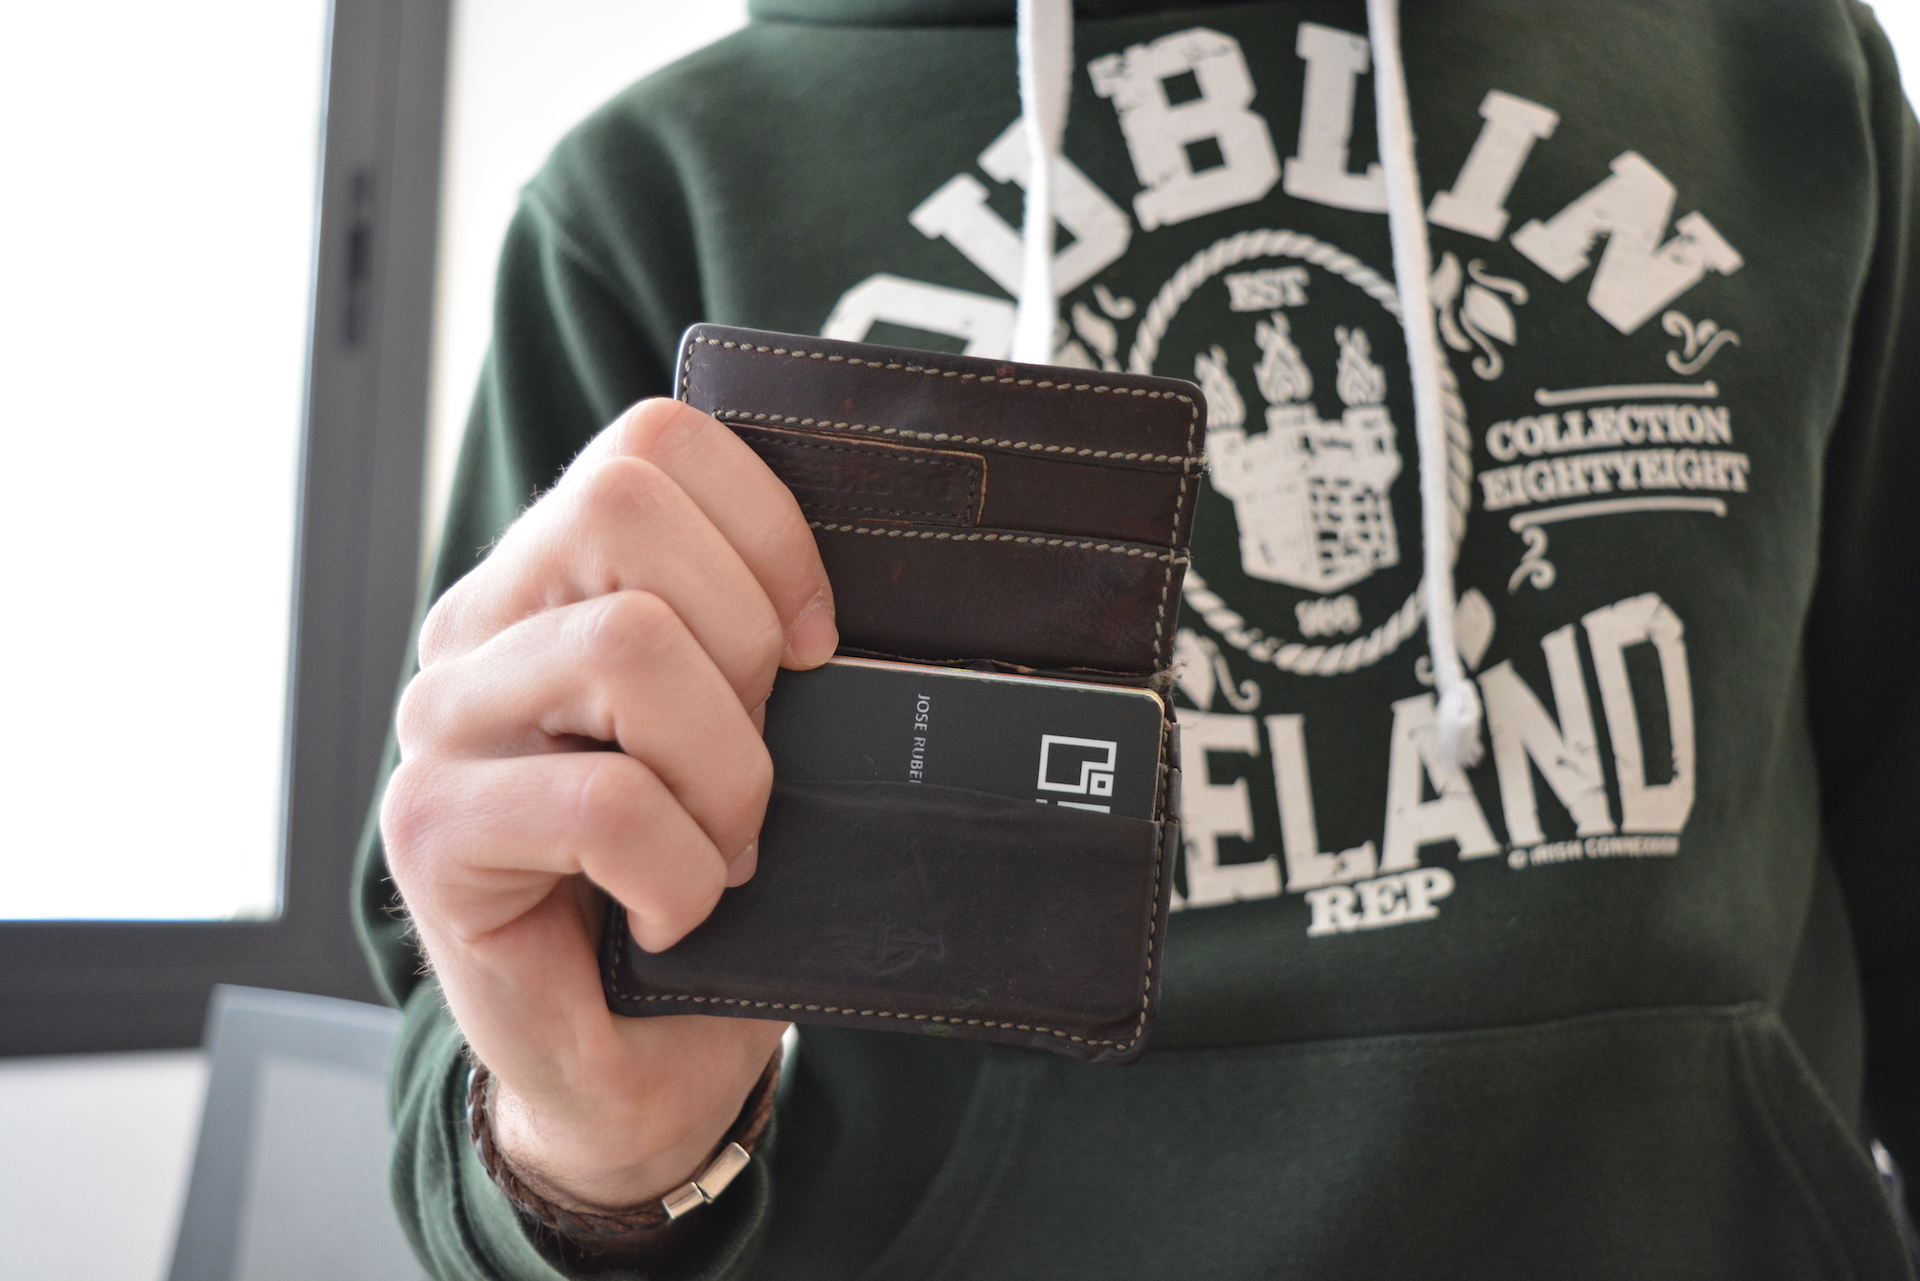monedero: (592, 315, 1219, 1072)
